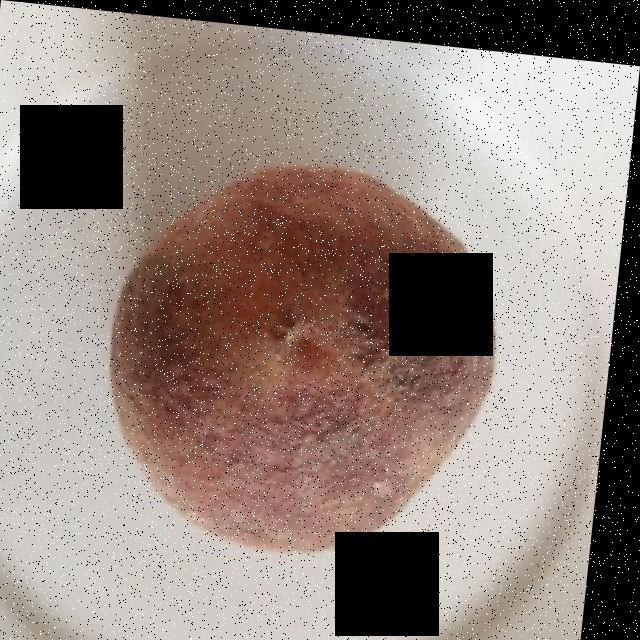peach: (124, 161, 500, 543)
